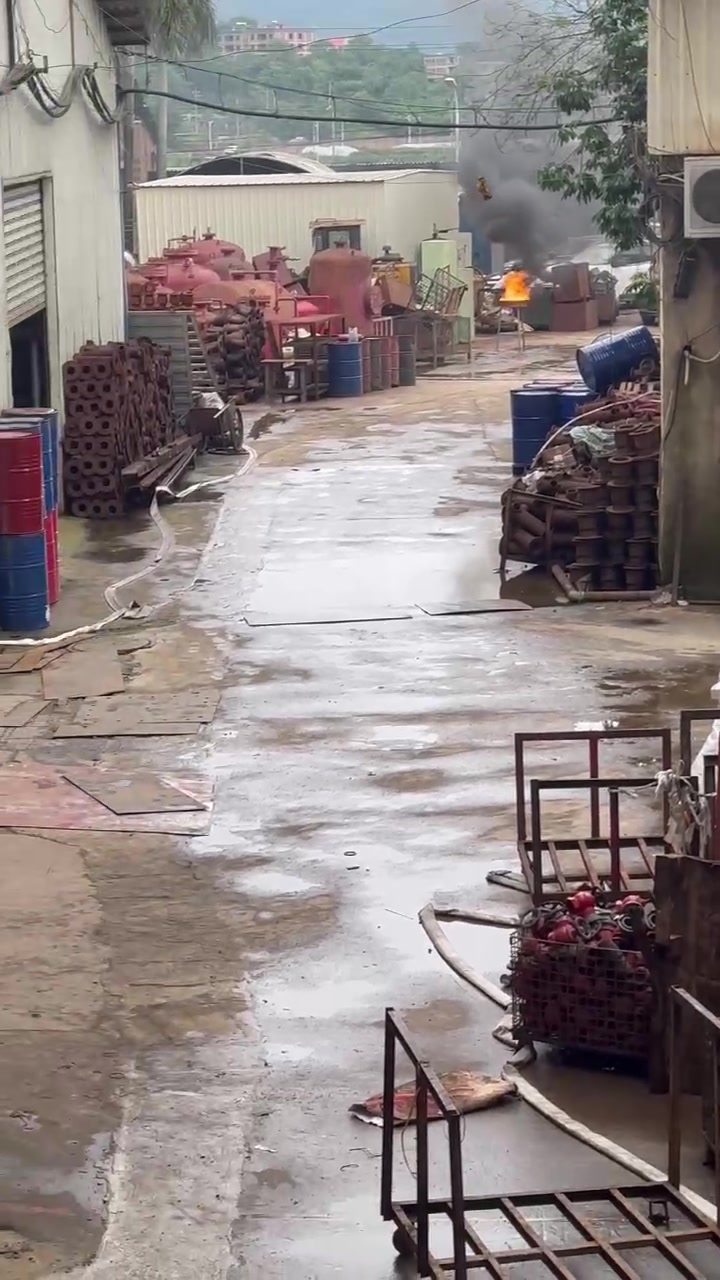fire: (499, 271, 529, 300)
